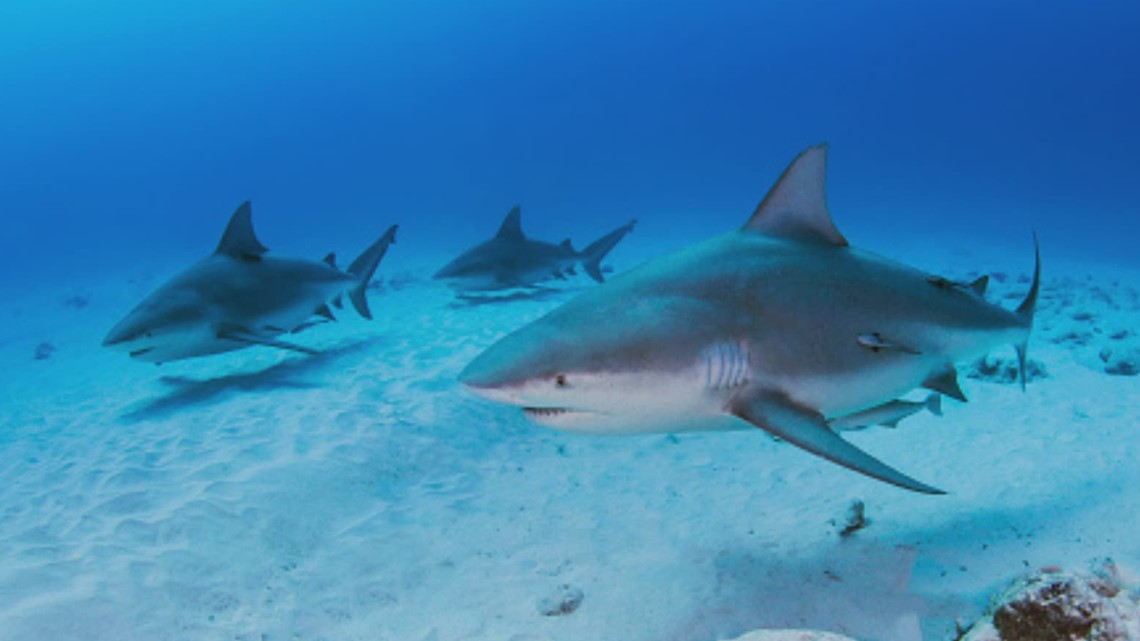shark: (466, 138, 1065, 516), (104, 191, 401, 396), (434, 202, 661, 296)
